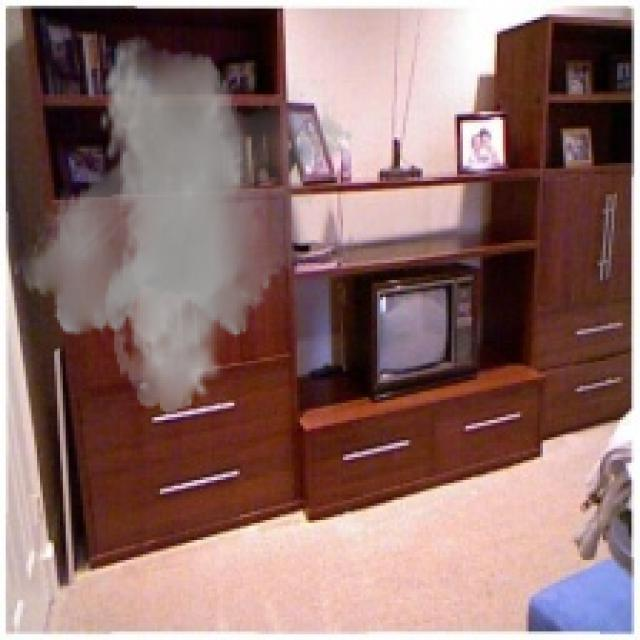Smoke: (12, 34, 354, 414)
